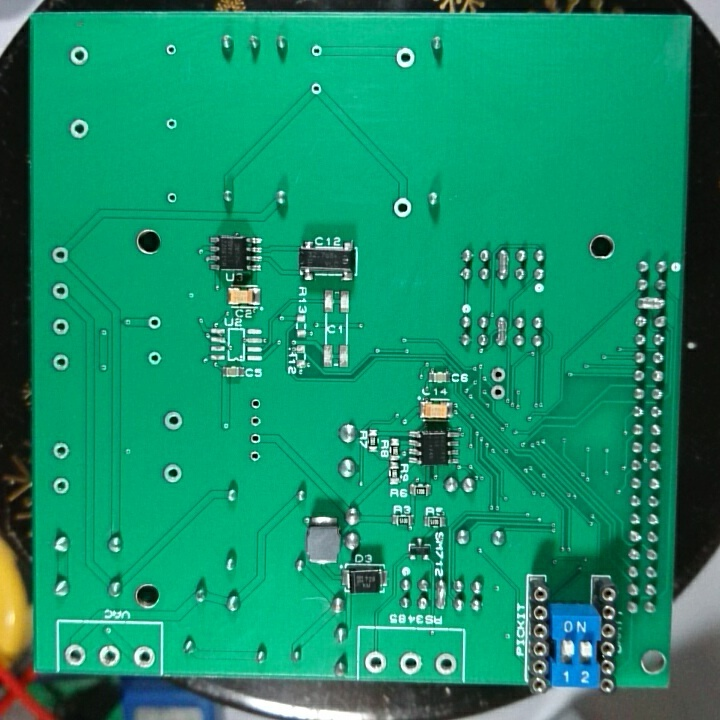F: (388, 195, 419, 225), (430, 650, 458, 677), (131, 643, 157, 671), (398, 648, 424, 675), (67, 117, 93, 143), (363, 649, 387, 677), (67, 44, 93, 69), (62, 643, 88, 667), (47, 279, 72, 303), (394, 45, 417, 71), (50, 472, 73, 498), (98, 643, 121, 669), (48, 244, 72, 268), (161, 408, 184, 433), (162, 462, 184, 486), (49, 315, 70, 338), (50, 352, 72, 373), (51, 440, 72, 462), (487, 364, 510, 383), (145, 312, 164, 332), (489, 381, 507, 402), (145, 350, 163, 369), (244, 448, 261, 466), (247, 429, 263, 448), (309, 78, 324, 98), (248, 395, 265, 412), (164, 41, 180, 59), (164, 115, 180, 132), (164, 189, 180, 206), (310, 41, 324, 60), (248, 414, 264, 429)
P: (493, 313, 510, 351), (496, 247, 513, 284), (635, 295, 667, 312), (433, 578, 449, 612)
